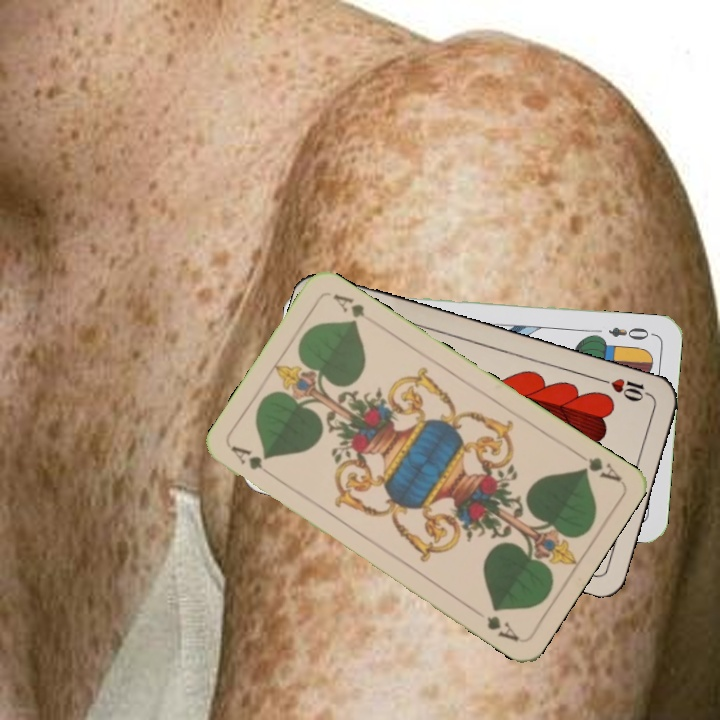EO: (604, 322, 657, 343)
GA: (227, 441, 278, 482), (570, 448, 624, 484)
H10: (596, 374, 653, 404)
